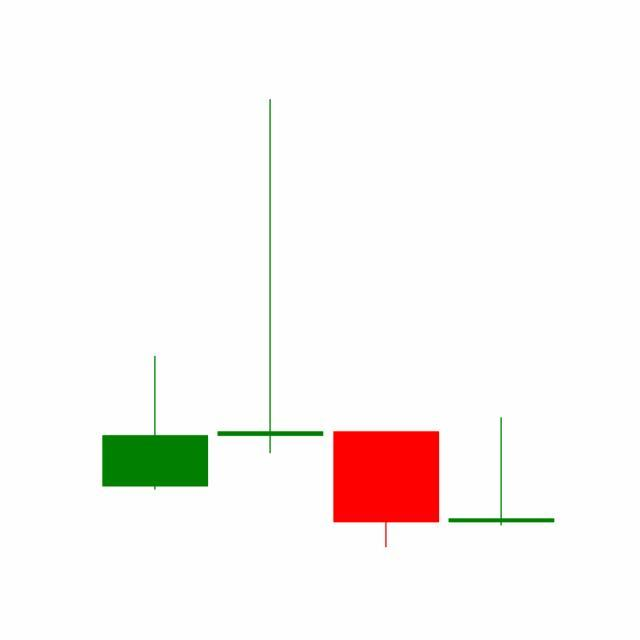Gravestone Doji: (444, 416, 560, 528)
